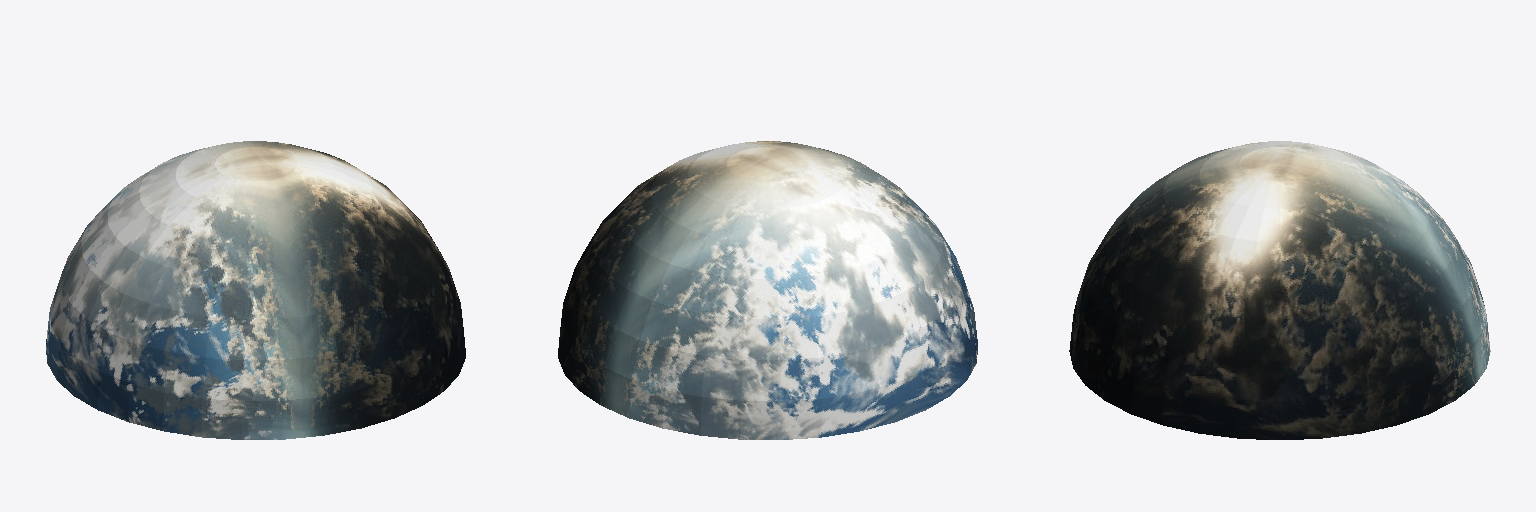
3 views of the same model, side by side, from view 1: azimuth 30°, elevation 25°; view 2: azimuth 150°, elevation 25°; view 3: azimuth 270°, elevation 25° (orthographic).
Parts seen in each view (by area): view 1: Sphere; view 2: Sphere; view 3: Sphere.
Part boxes in pixels (bbox=[...]): Sphere: bbox=[46, 141, 465, 439]; Sphere: bbox=[558, 141, 977, 439]; Sphere: bbox=[1069, 141, 1490, 439].
Bounding box in the file's own units: 10 × 5 × 10.
1 materials, 1 textured.